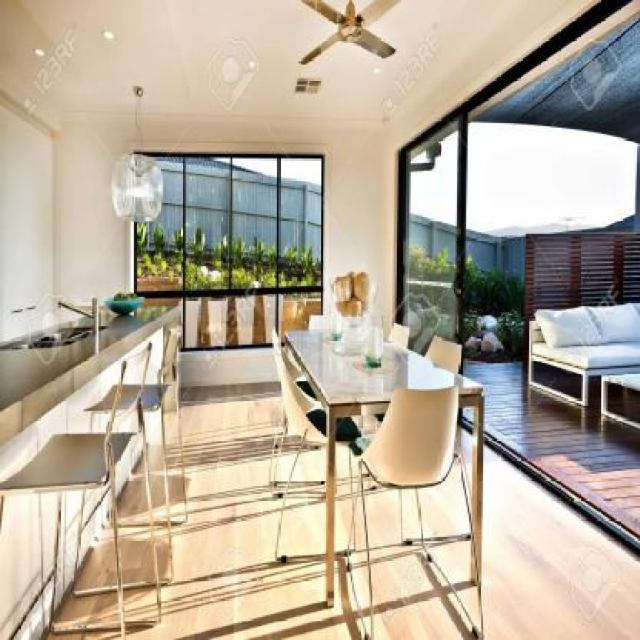floor: (41, 377, 367, 639), (367, 440, 640, 640)
